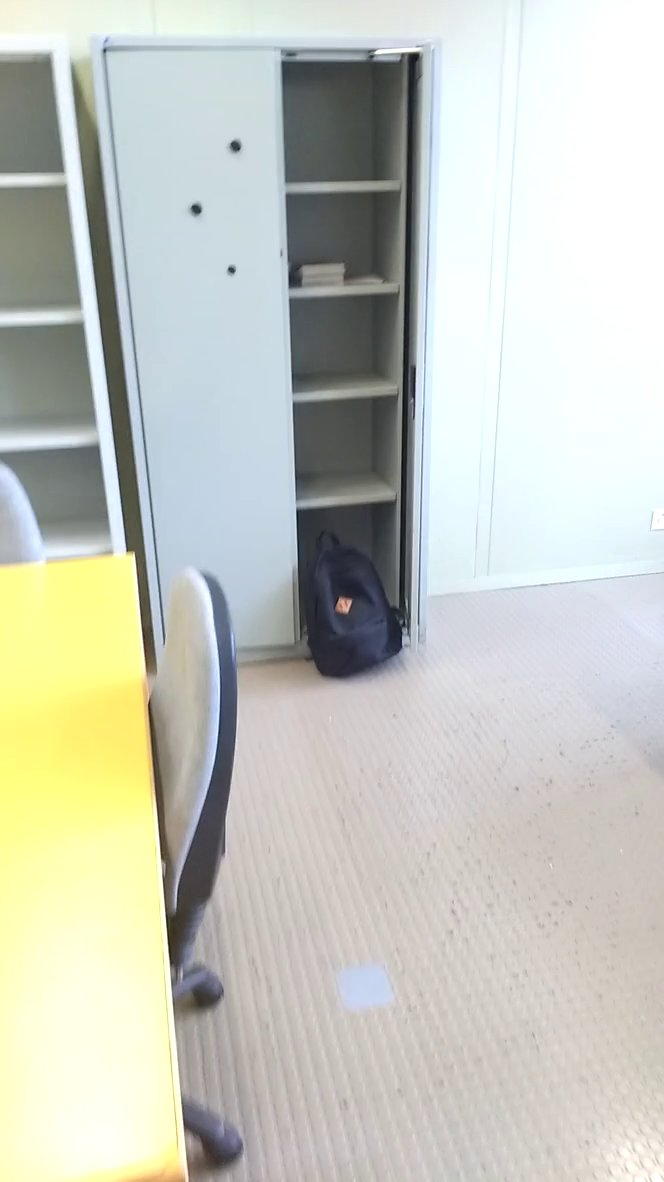bag: (299, 522, 408, 686)
chair: (127, 546, 266, 1101)
